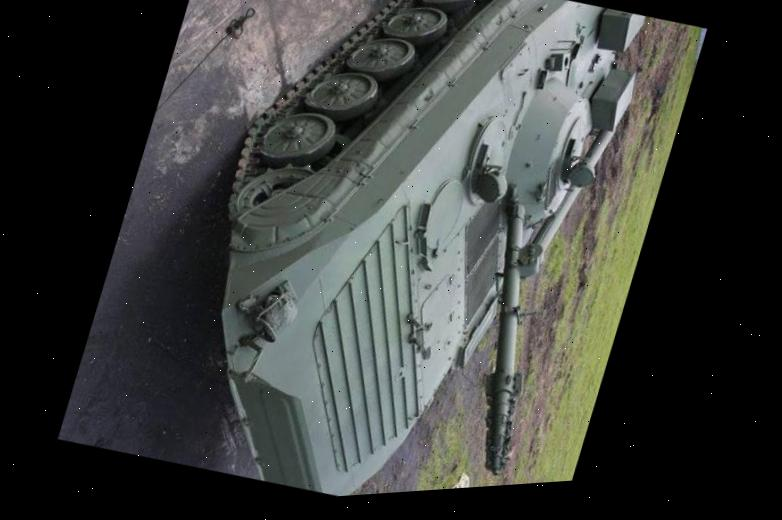tank: (142, 0, 658, 509)
